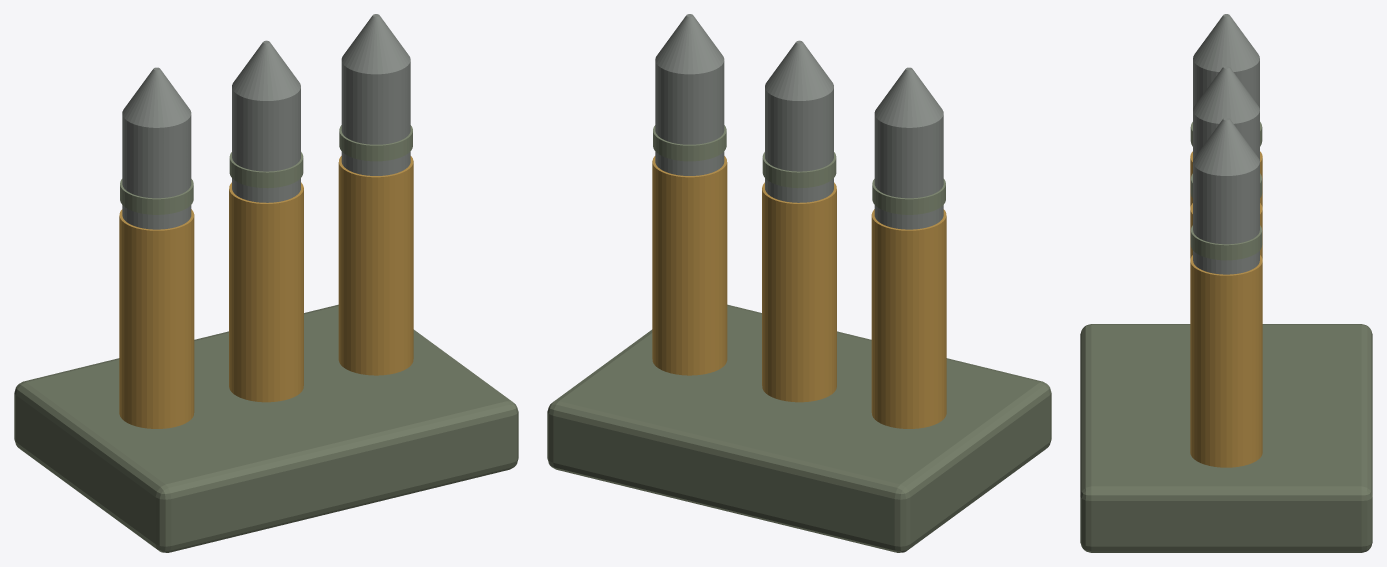
Rendered from ammo_0.glb.
The picture shows the model from 3 angles, left to right: view 1: azimuth 30°, elevation 25°; view 2: azimuth 150°, elevation 25°; view 3: azimuth 270°, elevation 25°; orthographic projection. The views are drawn at different scales.
Parts seen in each view (by area): view 1: ammo_0; view 2: ammo_0; view 3: ammo_0.
Boxes of the visible parts, left/top/right/bottom form: ammo_0: left=14, top=14, right=518, bottom=552; ammo_0: left=547, top=14, right=1051, bottom=552; ammo_0: left=1080, top=14, right=1372, bottom=552.
Bounding box in the file's own units: 1.45 × 1.6 × 1.05.
